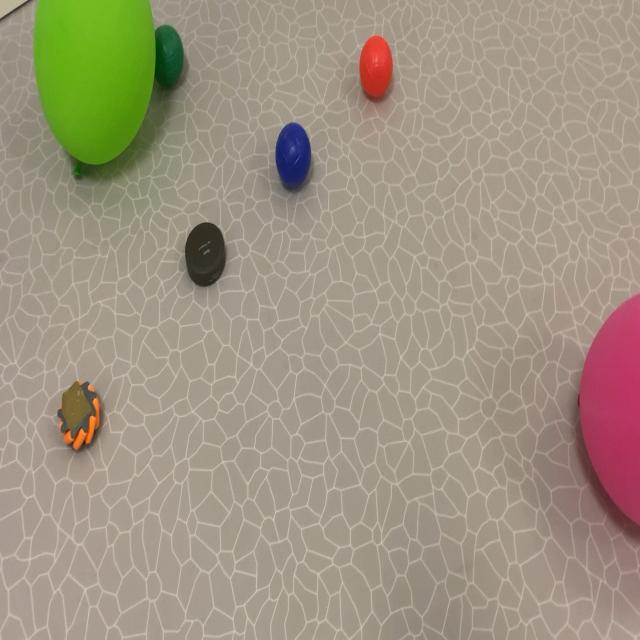7: (346, 3, 411, 153)
blue ball: (162, 27, 400, 208)
green ball: (263, 92, 320, 235)
red and blue ball: (157, 9, 192, 131)
